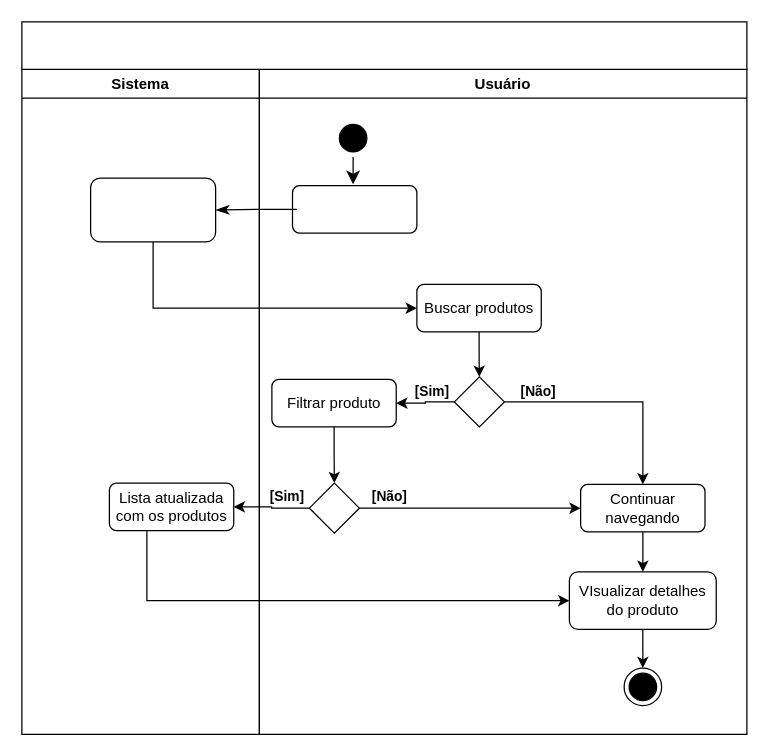
Some shapes in this 769 by 756 pixel diagram are drawn without their labels. The shapes that lost their labels are listed below. From the top down, each one's centre as x and y in pixels, then its label:
the point at 384,45: Diagrama de Atividades: Navegar no Catálogo
the point at 152,209: Carrega lista de produtos
the point at 354,208: Acessar catálogo
